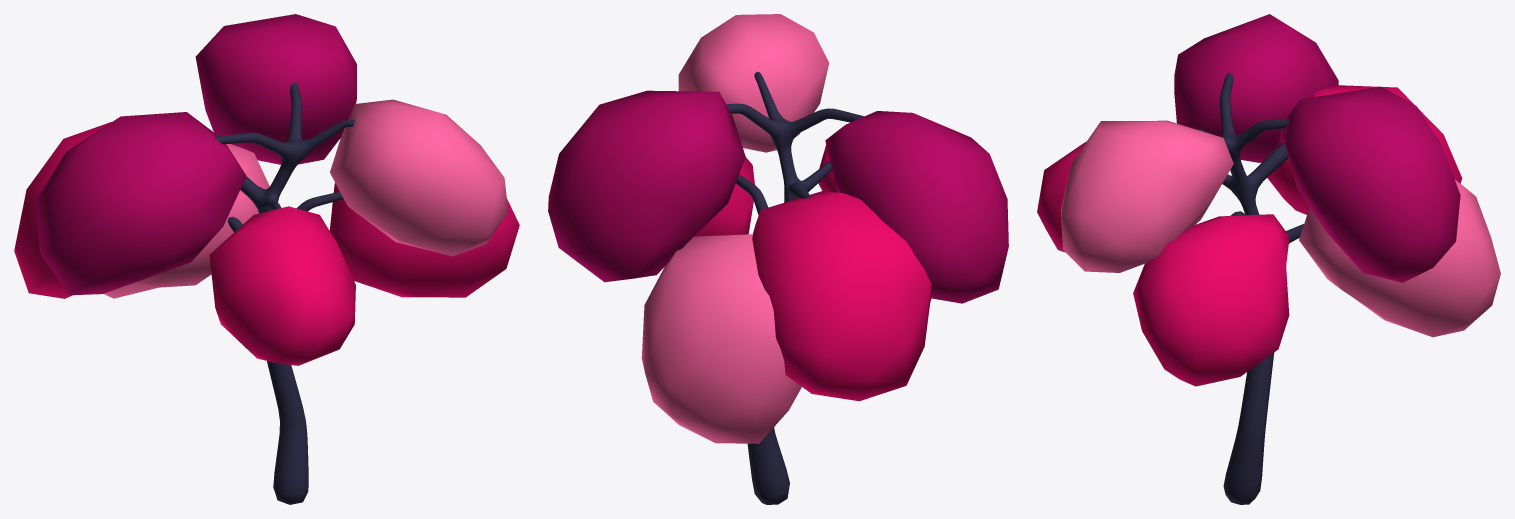
Rendered from treeA.fbx.
The picture shows the model from 3 angles, left to right: view 1: azimuth 30°, elevation 25°; view 2: azimuth 150°, elevation 25°; view 3: azimuth 270°, elevation 25°; orthographic projection. The views are drawn at different scales.
Parts seen in each view (by area): view 1: Leaf.005, Leaf.003, Leaf.001, Leaf.004, Leaf.002, Trunk, Leaf.006, Leaf.007; view 2: Leaf.006, Leaf.004, Leaf.007, Leaf.005, Leaf.003, Trunk, Leaf.002; view 3: Leaf.004, Leaf.002, Leaf.003, Leaf.005, Leaf.007, Trunk, Leaf.006, Leaf.001.
Part boxes in pixels (box(x1,y1,x2,y2)): Leaf.005: box(36, 112, 246, 295); Leaf.003: box(330, 99, 508, 256); Leaf.001: box(209, 206, 355, 365); Leaf.004: box(195, 14, 356, 164); Leaf.002: box(329, 183, 519, 297); Trunk: box(214, 82, 354, 504); Leaf.006: box(14, 122, 111, 298); Leaf.007: box(104, 144, 269, 298); Leaf.006: box(752, 191, 931, 401); Leaf.004: box(548, 90, 745, 282); Leaf.007: box(641, 234, 801, 443); Leaf.005: box(825, 111, 1008, 303); Leaf.003: box(678, 14, 828, 152); Trunk: box(726, 71, 863, 504); Leaf.002: box(694, 157, 754, 236); Leaf.004: box(1280, 86, 1460, 282); Leaf.002: box(1133, 214, 1289, 386); Leaf.003: box(1060, 120, 1233, 272); Leaf.005: box(1174, 14, 1338, 162); Leaf.007: box(1299, 179, 1500, 337); Trunk: box(1197, 73, 1303, 504); Leaf.006: box(1267, 85, 1462, 214); Leaf.001: box(1037, 142, 1085, 252).
Size of the model in its own units: 937 by 892 by 889.
